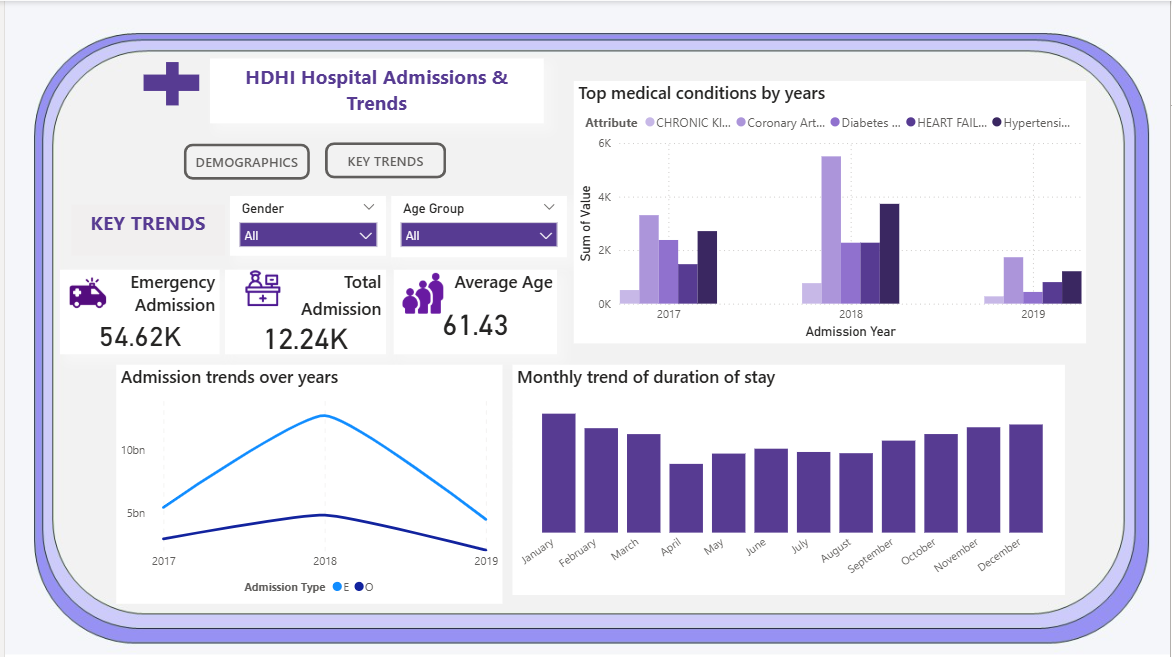

The page's visual inventory and layout, read from the dashboard file:
{"tool":"powerbi","page":{"name":"KEY TRENDS","canvas":[1280,720],"ordinal":1},"visuals":[{"type":"slicer","fields":{"Values":["Cleaned_HDHI_Admissions.GENDER"]},"box":[247,214.1,171.5,65.9],"z":0},{"type":"card","title":" Total","fields":{"Values":["Count(Cleaned_HDHI_Admissions.Admission Number)"]},"box":[241.7,294.5,176.7,92.7],"z":0,"group":"g1"},{"type":"slicer","fields":{"Values":["Cleaned_HDHI_Admissions.Age Group"]},"box":[423.3,213.8,192.4,67],"z":1000},{"type":"group","id":"g1","title":"Group 3","box":[241.7,290.6,176.5,96.4],"z":2000},{"type":"group","id":"g2","title":"Group 4","box":[427.1,293.6,180.1,94.1],"z":3000},{"type":"group","id":"g3","title":"Group 2","box":[59.3,295.1,175,91.9],"z":4000},{"type":"lineChart","title":"Admission trends over years","fields":{"Category":["Cleaned_HDHI_Admissions.month year.Variation.Date Hierarchy.Year"],"Y":["Sum(Cleaned_HDHI_Admissions.Admission Number)"],"Series":["Cleaned_HDHI_Admissions.TYPE OF ADMISSION-EMERGENCY/OPD"]},"box":[122.1,399.3,424,262.1],"z":5000},{"type":"card","title":"Average Age","fields":{"Values":["Avg(Cleaned_HDHI_Admissions.AGE)"]},"box":[427.6,295,179.6,92.7],"z":6000,"group":"g2"},{"type":"columnChart","title":"Monthly trend of duration of stay","fields":{"Y":["Sum(Cleaned_HDHI_Admissions.DURATION OF STAY)"],"Category":["Cleaned_HDHI_Admissions.month year.Variation.Date Hierarchy.Month"]},"box":[557.1,399.3,606.5,252.5],"z":6000},{"type":"clusteredColumnChart","title":"Top medical conditions by years","fields":{"Category":["Cleaned_HDHI_Admissions.Admission Year"],"Y":["Sum(Cleaned_HDHI_Admissions.Value)"],"Series":["Cleaned_HDHI_Admissions.Attribute"]},"box":[624.4,87.8,562.6,288.2],"z":7000},{"type":"card","title":"Emergency Admission","fields":{"Values":["CountNonNull(Cleaned_HDHI_Admissions.Admission Number)"]},"box":[60,295.1,175.3,92.7],"z":7000,"group":"g3"},{"type":"textbox","box":[225.4,63.8,366.3,71.2],"z":8000},{"type":"shape","box":[176.5,66.7,13.3,47.5],"z":9000},{"type":"shape","box":[152.7,81.6,60.8,17.8],"z":10000},{"type":"textbox","box":[72.7,223.7,168.8,56.3],"z":11000},{"type":"actionButton","box":[196.2,156.4,138.6,39.8],"z":12000},{"type":"actionButton","box":[351.3,155.1,133.1,39.8],"z":13000},{"type":"image","box":[59.3,295.7,63.8,50.4],"z":13003,"group":"g3"},{"type":"image","box":[242.3,290.6,83,48.9],"z":13005,"group":"g1"},{"type":"image","box":[427.1,293.6,63.8,54.9],"z":13007,"group":"g2"}]}

Visuals, with their boxes in screenshot pixels (x1, y1, x2, y2), scaled from the page's 1280x720 canvas onto the 1172x657 screenshot:
slicer - Cleaned_HDHI_Admissions.GENDER: x1=226 y1=195 x2=383 y2=256
" Total" card: x1=221 y1=269 x2=383 y2=353
slicer - Cleaned_HDHI_Admissions.Age Group: x1=388 y1=195 x2=564 y2=256
"Group 3" group: x1=221 y1=265 x2=383 y2=353
"Group 4" group: x1=391 y1=268 x2=556 y2=354
"Group 2" group: x1=54 y1=269 x2=215 y2=353
"Admission trends over years" lineChart: x1=112 y1=364 x2=500 y2=604
"Average Age" card: x1=392 y1=269 x2=556 y2=354
"Monthly trend of duration of stay" columnChart: x1=510 y1=364 x2=1065 y2=595
"Top medical conditions by years" clusteredColumnChart: x1=572 y1=80 x2=1087 y2=343
"Emergency Admission" card: x1=55 y1=269 x2=215 y2=354
textbox: x1=206 y1=58 x2=542 y2=123
shape: x1=162 y1=61 x2=174 y2=104
shape: x1=140 y1=74 x2=195 y2=91
textbox: x1=67 y1=204 x2=221 y2=256
actionButton: x1=180 y1=143 x2=307 y2=179
actionButton: x1=322 y1=142 x2=444 y2=178
image: x1=54 y1=270 x2=113 y2=316
image: x1=222 y1=265 x2=298 y2=310
image: x1=391 y1=268 x2=449 y2=318
